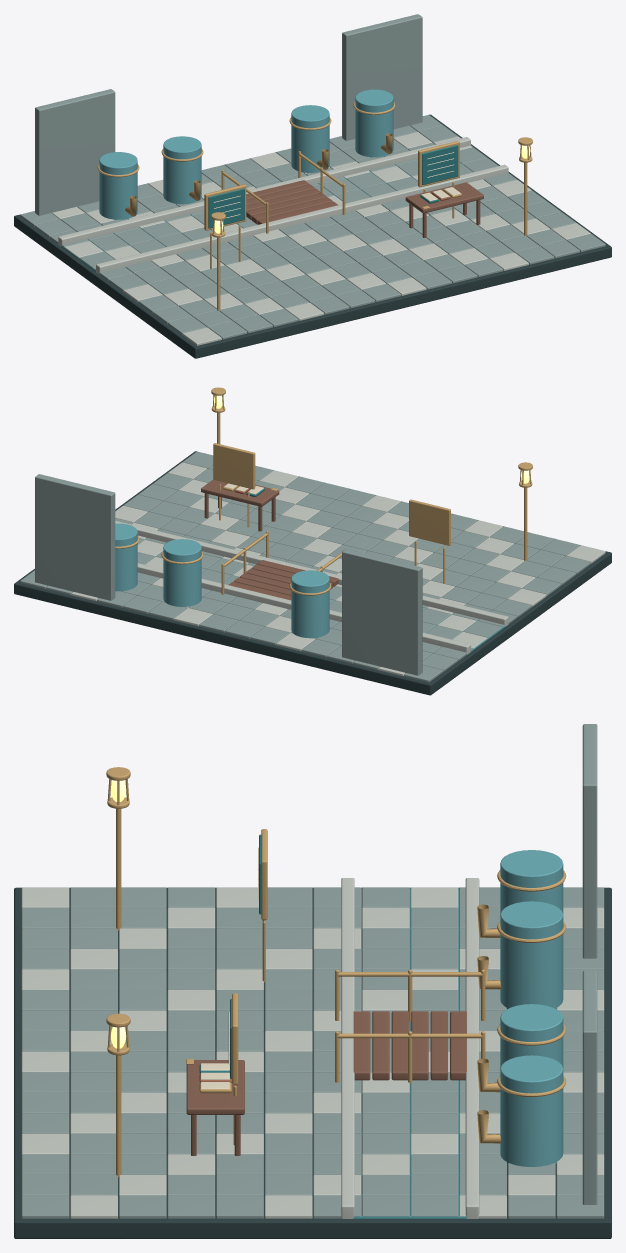
3 renders of one model, top to bottom at view 1: azimuth 30°, elevation 25°; view 2: azimuth 150°, elevation 25°; view 3: azimuth 270°, elevation 25°, orthographic. The views are drawn at different scales.
Parts seen in each view (by area): view 1: Static_2_Salt limestone.002, Static_1_Carved pale stone.002, Static_6_Sea glass.002, Static_0_Ink iron.002, Static_5_Aged brass.003, Static_4_Walnut.002, Static_7_Enamel teal.003, Static_8_Archive paper.002; view 2: Static_2_Salt limestone.002, Static_1_Carved pale stone.002, Static_0_Ink iron.002, Static_6_Sea glass.002, Static_5_Aged brass.003, Static_4_Walnut.002; view 3: Static_2_Salt limestone.002, Static_1_Carved pale stone.002, Static_0_Ink iron.002, Static_6_Sea glass.002, Static_5_Aged brass.003, Static_4_Walnut.002, Static_3_River turquoise, Static_8_Archive paper.002.
Part boxes in pixels (left/top/right/bottom): Static_2_Salt limestone.002: left=20, top=14, right=605, bottom=339; Static_1_Carved pale stone.002: left=52, top=132, right=590, bottom=345; Static_6_Sea glass.002: left=99, top=89, right=393, bottom=219; Static_0_Ink iron.002: left=14, top=114, right=611, bottom=358; Static_5_Aged brass.003: left=97, top=102, right=532, bottom=310; Static_4_Walnut.002: left=246, top=180, right=483, bottom=237; Static_7_Enamel teal.003: left=208, top=145, right=458, bottom=228; Static_8_Archive paper.002: left=213, top=152, right=460, bottom=218; Static_2_Salt limestone.002: left=20, top=451, right=590, bottom=682; Static_1_Carved pale stone.002: left=71, top=462, right=605, bottom=676; Static_0_Ink iron.002: left=14, top=451, right=611, bottom=695; Static_6_Sea glass.002: left=115, top=523, right=329, bottom=638; Static_5_Aged brass.003: left=115, top=387, right=532, bottom=595; Static_4_Walnut.002: left=201, top=479, right=338, bottom=600; Static_2_Salt limestone.002: left=21, top=724, right=604, bottom=1218; Static_1_Carved pale stone.002: left=21, top=878, right=604, bottom=1218; Static_0_Ink iron.002: left=14, top=887, right=611, bottom=1238; Static_6_Sea glass.002: left=500, top=850, right=563, bottom=1166; Static_5_Aged brass.003: left=106, top=767, right=566, bottom=1177; Static_4_Walnut.002: left=186, top=1011, right=466, bottom=1155; Static_3_River turquoise: left=353, top=888, right=466, bottom=1218; Static_8_Archive paper.002: left=200, top=847, right=258, bottom=1088.
Bounding box in the file's own units: 16.3 × 4.42 × 12.3.
